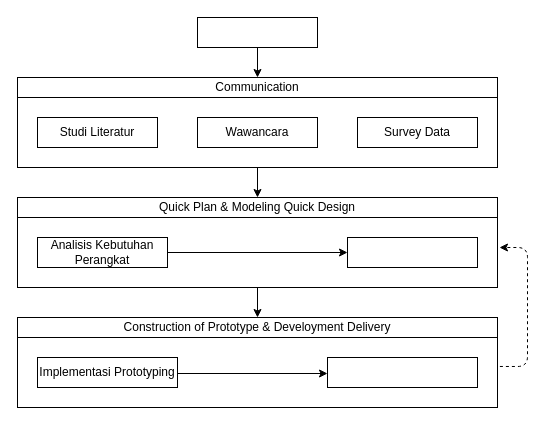
The diagram is 553 pixels wide and 425 high, and some of its shapes have lost their labels. The shapes that lost their labels are listed below. From the top down, each one's centre as x and y in pixels, then its label:
At [257,32]: "Identifikasi Masalah".
At [412,252]: "Perancangan Perangkat Hardware".
At [402,372]: "Pengujian".
